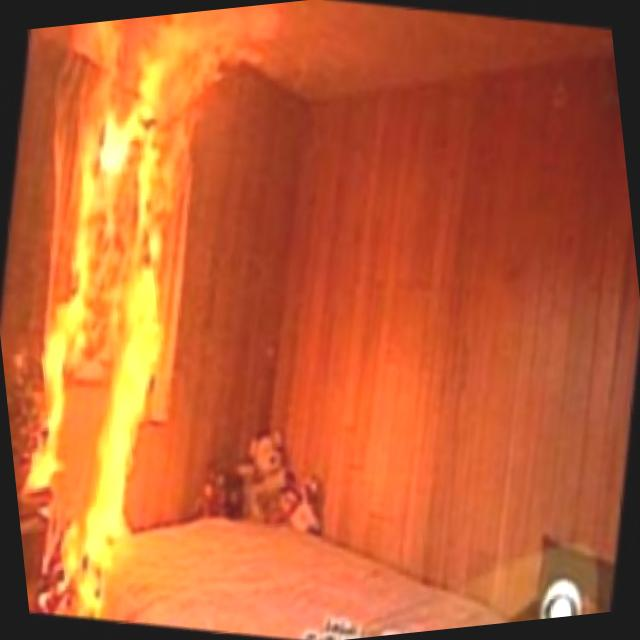fire: (0, 3, 331, 626)
